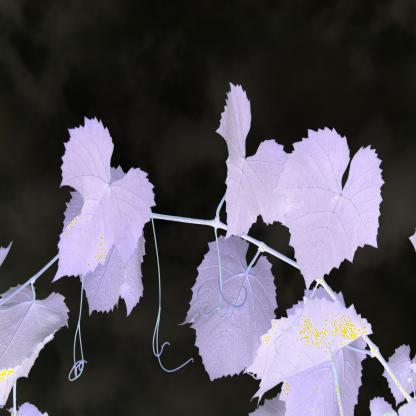grape leaf: (49, 110, 156, 285), (281, 116, 381, 290), (179, 235, 287, 391), (248, 296, 376, 399), (215, 73, 280, 244)
